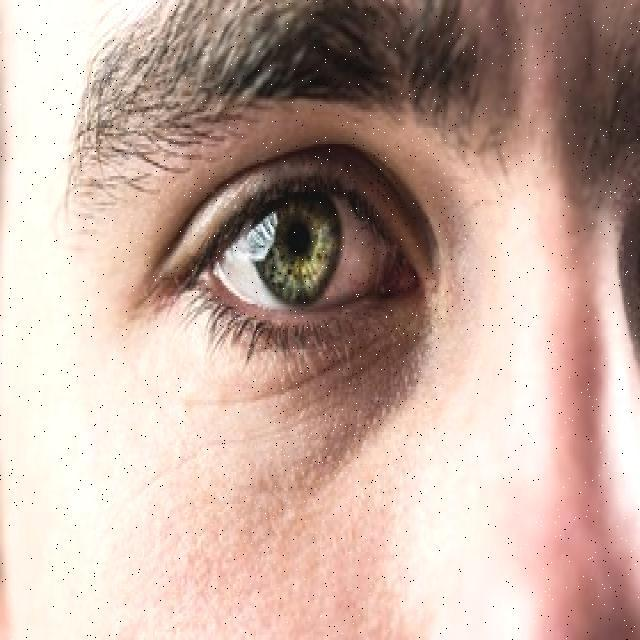Normal: (12, 73, 584, 579)
